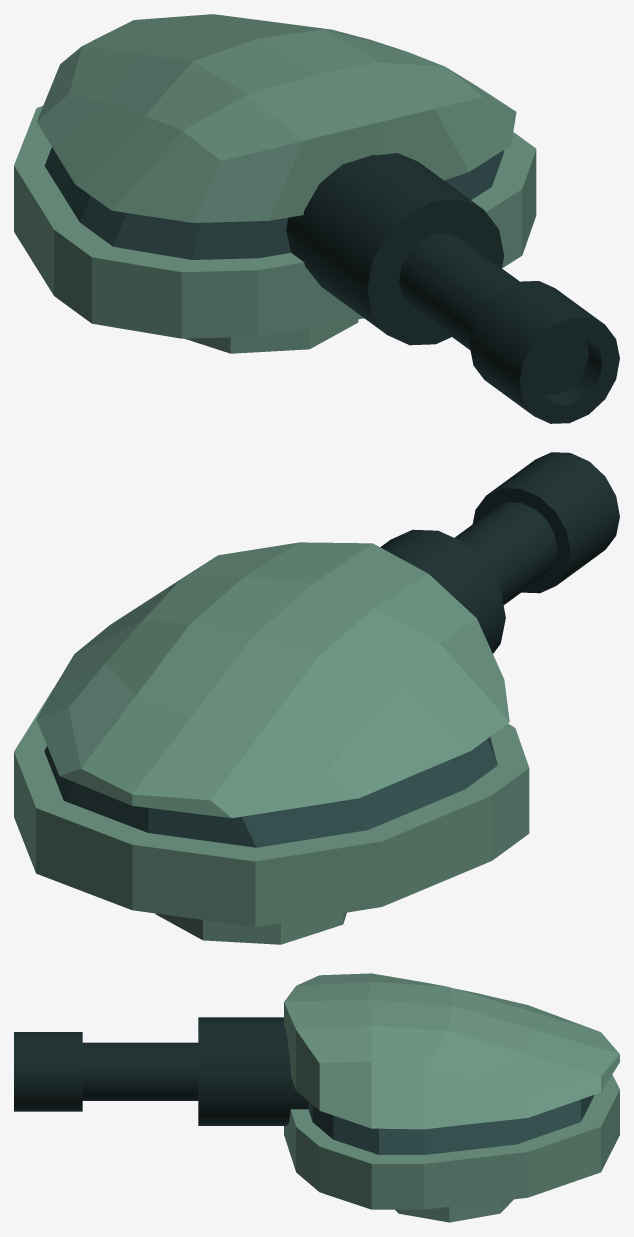
File: ENCabeza.obj
The picture shows the model from 3 angles, top to bottom: view 1: azimuth 30°, elevation 25°; view 2: azimuth 150°, elevation 25°; view 3: azimuth 270°, elevation 25°; orthographic projection. The views are drawn at different scales.
Visible parts, largest first — view 1: tank_top1, Cylinder.003; view 2: tank_top1, Cylinder.003; view 3: tank_top1, Cylinder.003.
Boxes of the visible parts, x1,y1,x2,y2 form: tank_top1: (14, 14, 536, 353); Cylinder.003: (286, 153, 619, 423); tank_top1: (14, 542, 529, 944); Cylinder.003: (380, 452, 619, 653); tank_top1: (284, 973, 619, 1222); Cylinder.003: (14, 1017, 308, 1125).
Bounding box in the file's own units: 4.04 × 2.43 × 6.92.
